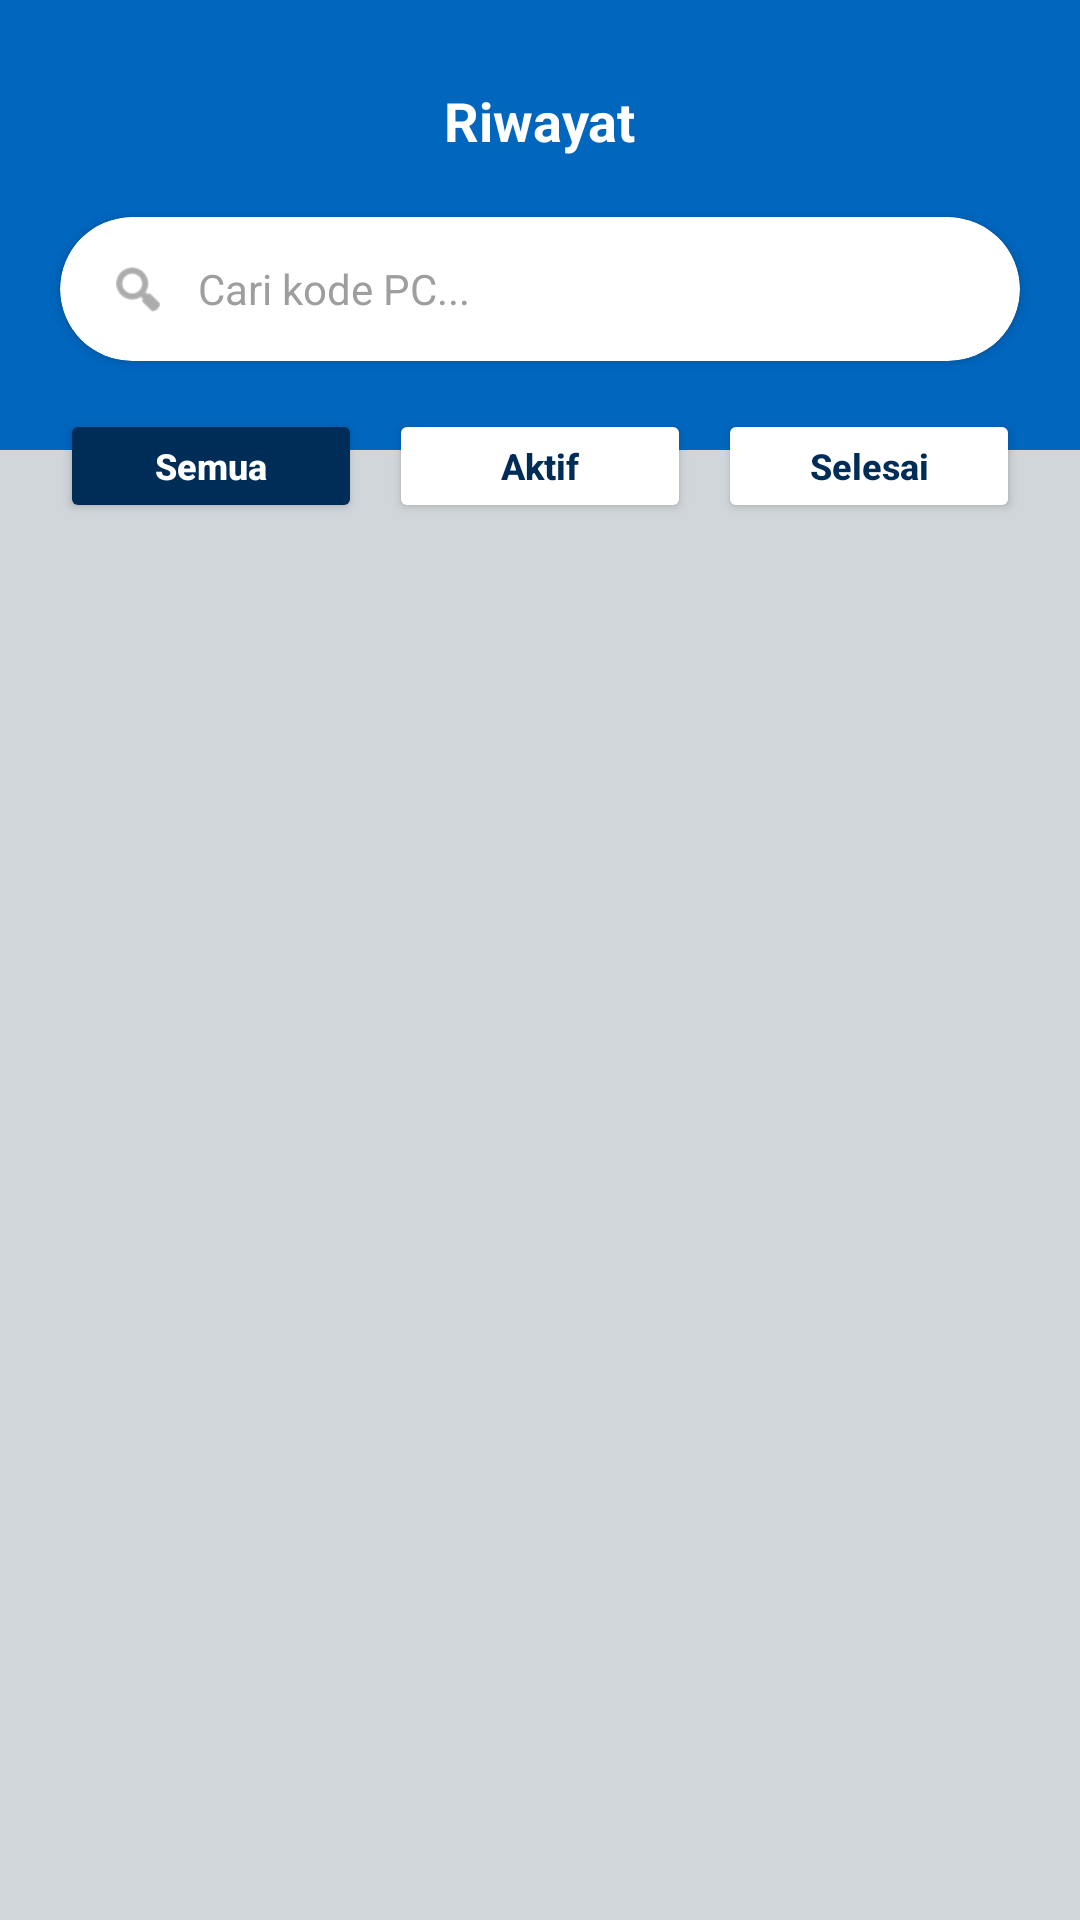

Named icons in this screenshot (1080 × 1920) and their centers, [x,y]:
search: [138,289]
